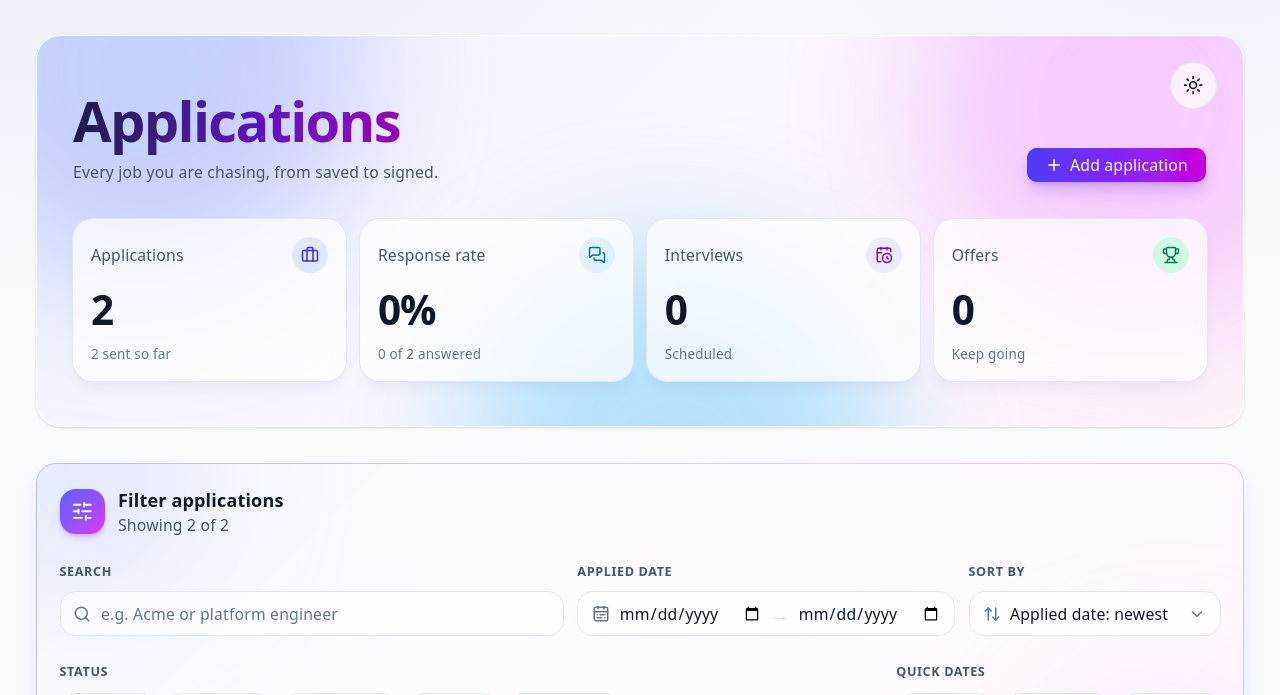
Test case: ApplicationsPage API integration › submits the add dialog and refreshes the application query
Click the button "Add application" at (1117, 165), box [1026,147,1207,183]
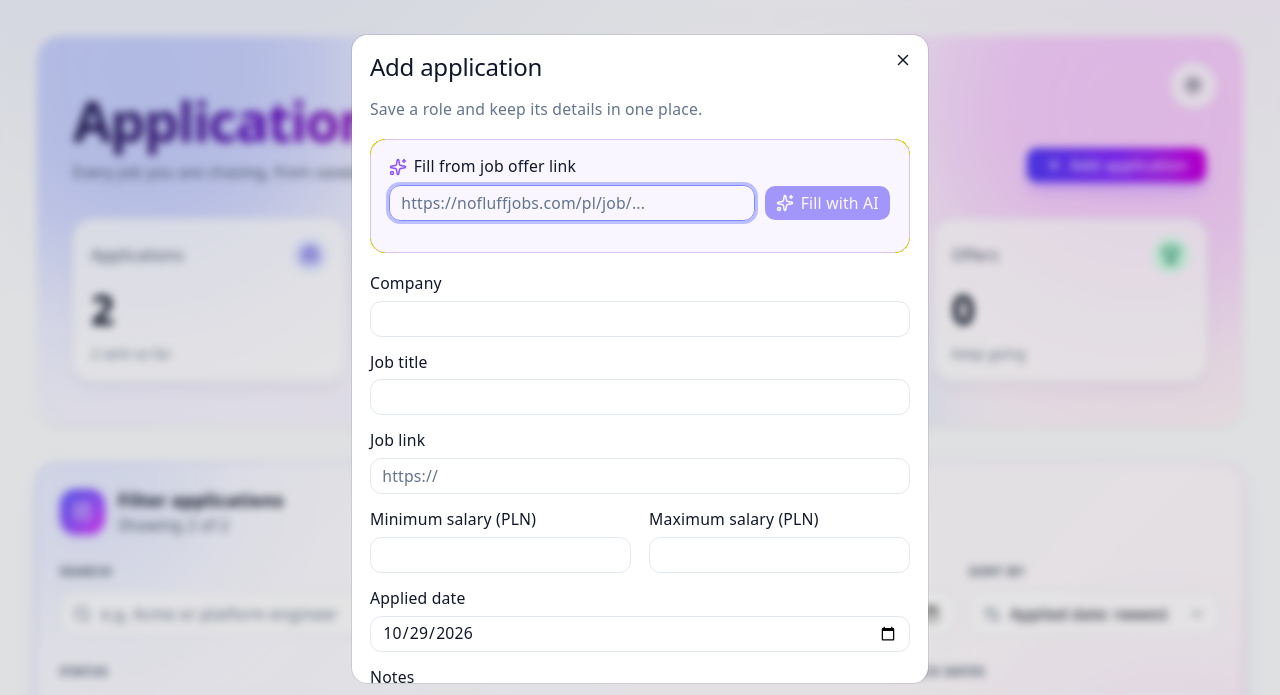
Type "Signal Studio" into the field labelled "Company" at (640, 319), box [370,301,910,337]
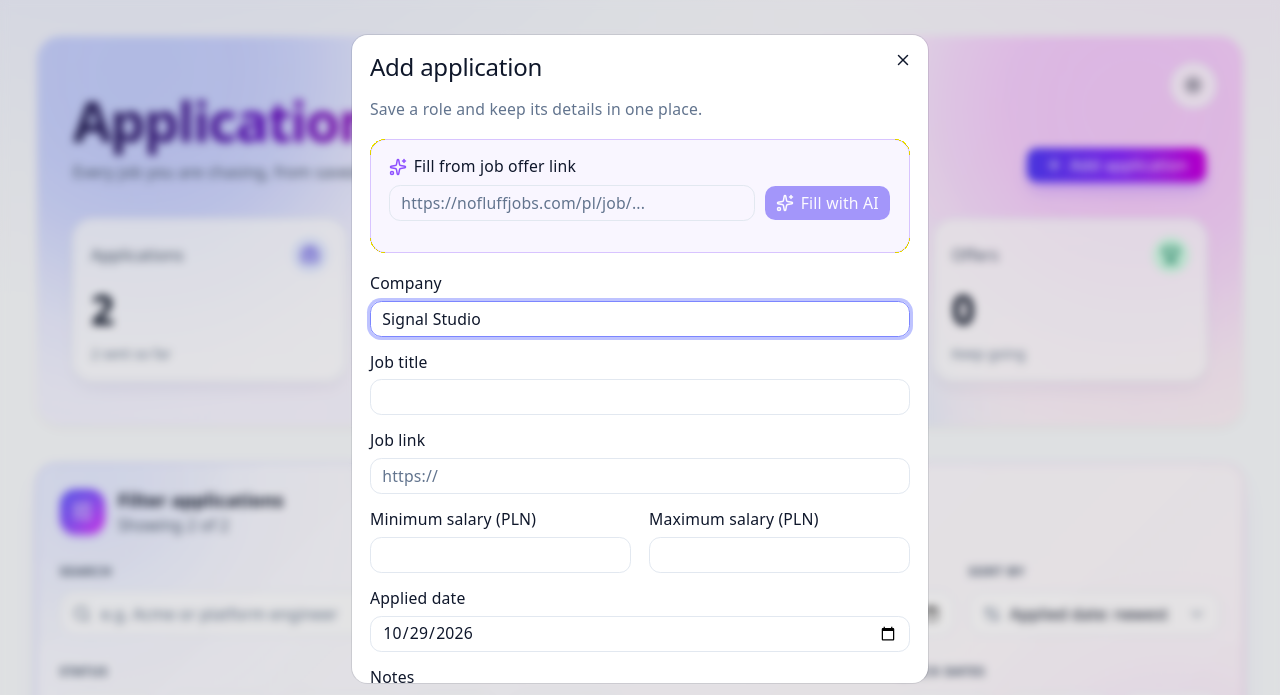
Type "UI Engineer" into the field labelled "Job title" at (640, 397), box [370,379,910,415]
(page scrolled)
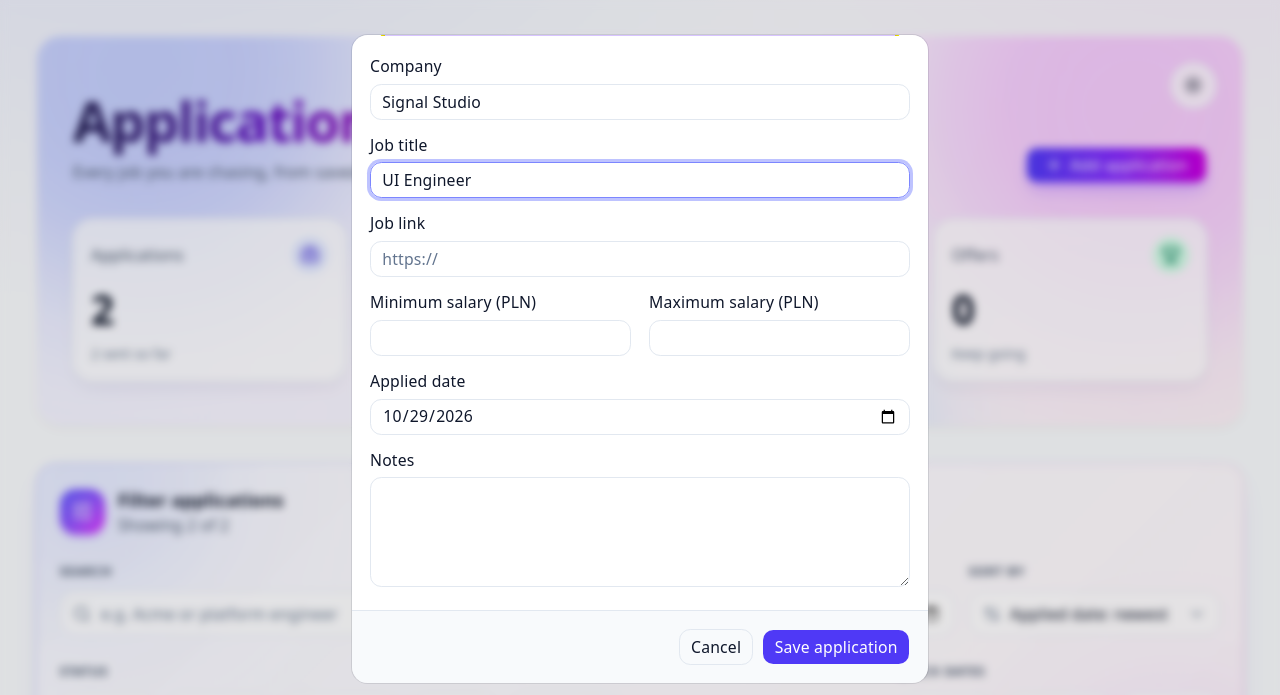
Type "Integration test" into the text box labelled "Notes" at (640, 532), box [370,477,910,587]
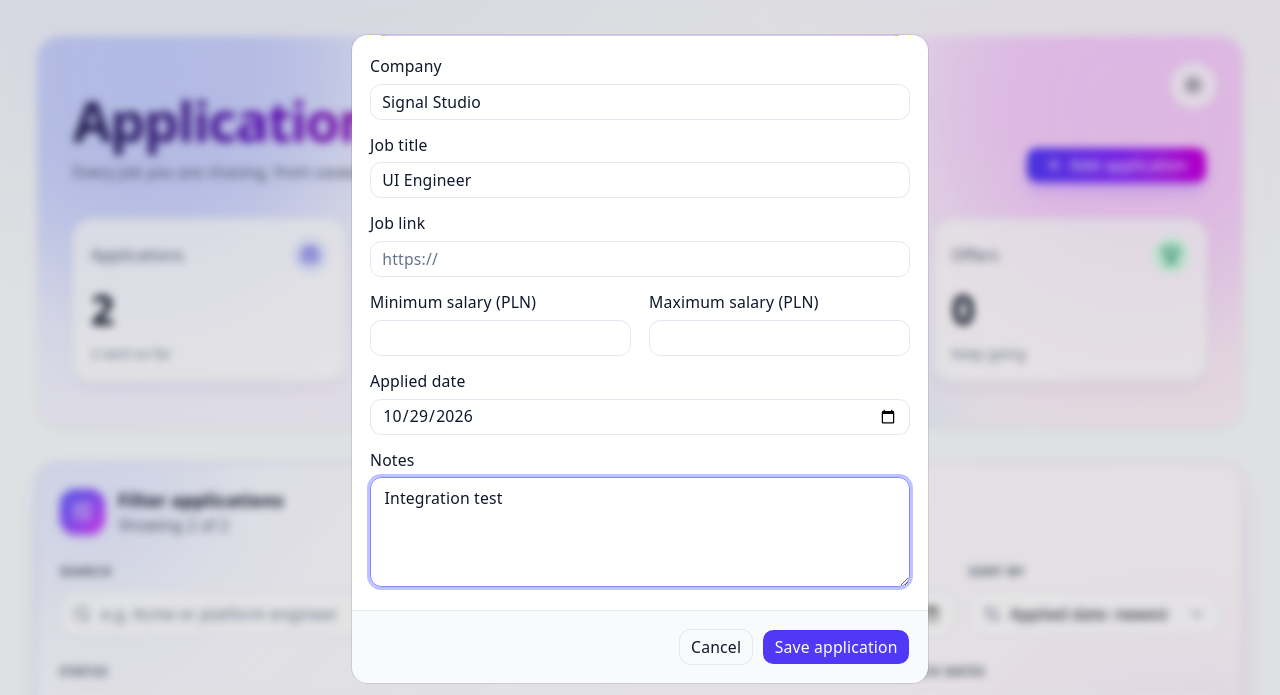
Click the button "Save application" at (836, 647), box [762,629,910,665]
(page scrolled)
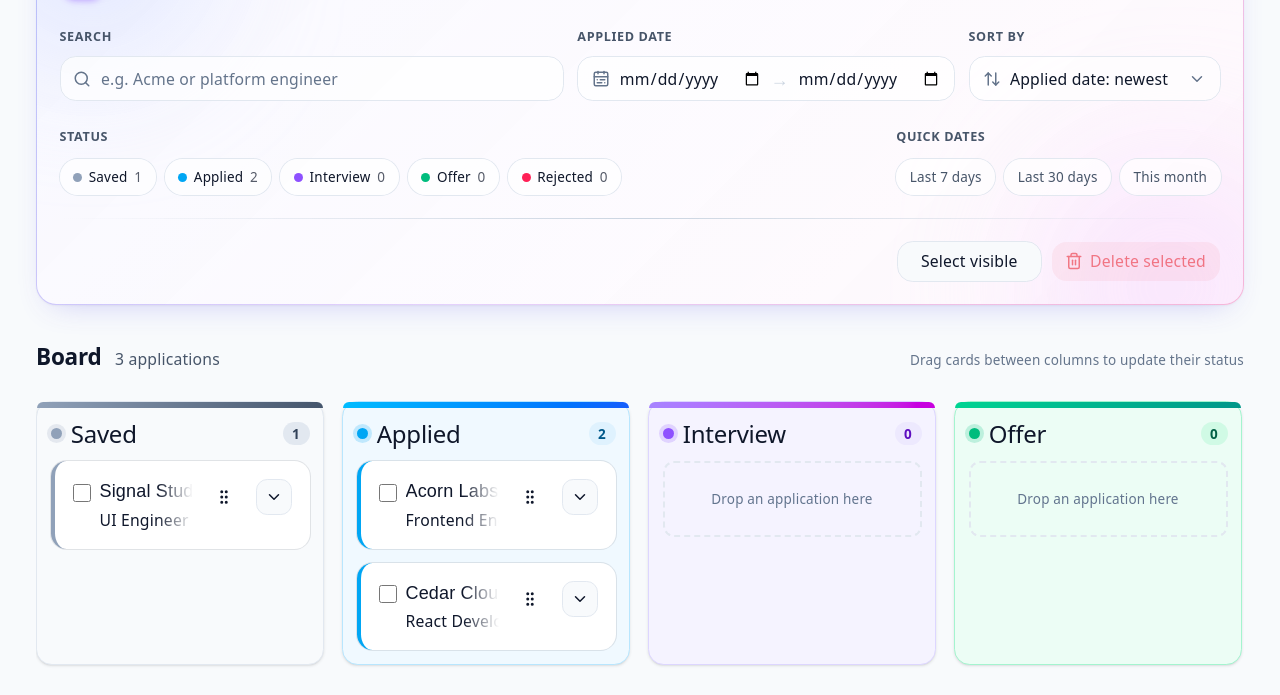
Check: the text "Signal Studio" is shown, box [100,479,192,504]
Check: the dialog is gone
